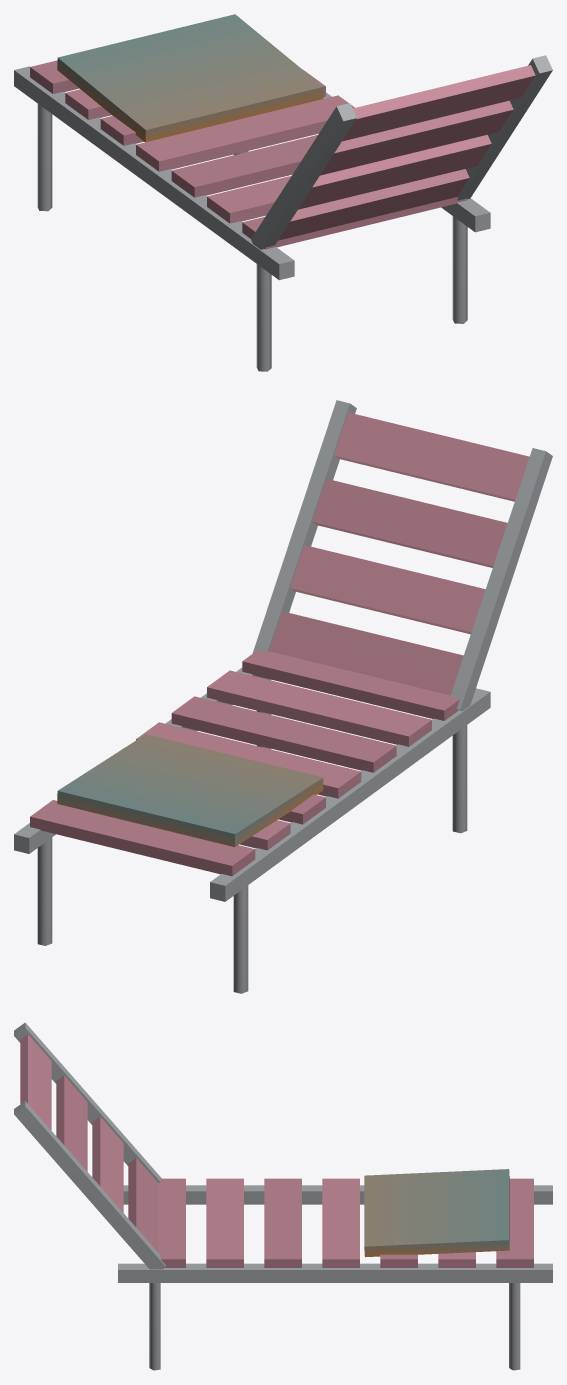
The model's file is sun_lounger.glb.
The picture shows the model from 3 angles, top to bottom: view 1: azimuth 30°, elevation 25°; view 2: azimuth 150°, elevation 25°; view 3: azimuth 270°, elevation 25°; orthographic projection. The views are drawn at different scales.
Parts seen in each view (by area): view 1: sun_lounger; view 2: sun_lounger; view 3: sun_lounger.
Part boxes in pixels (left/top/right/bottom): sun_lounger: left=14, top=14, right=552, bottom=371; sun_lounger: left=14, top=400, right=552, bottom=993; sun_lounger: left=14, top=1022, right=552, bottom=1370.
Bounding box in the file's own units: 0.6899 × 1.01 × 1.86.
